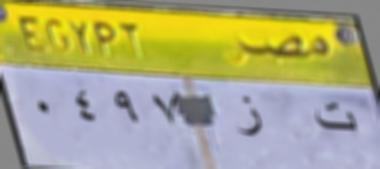0: (34, 95, 55, 118)
4: (70, 86, 96, 126)
7: (151, 88, 180, 132)
9: (110, 86, 140, 129)
taa: (314, 95, 360, 134)
zay: (233, 95, 266, 142)
